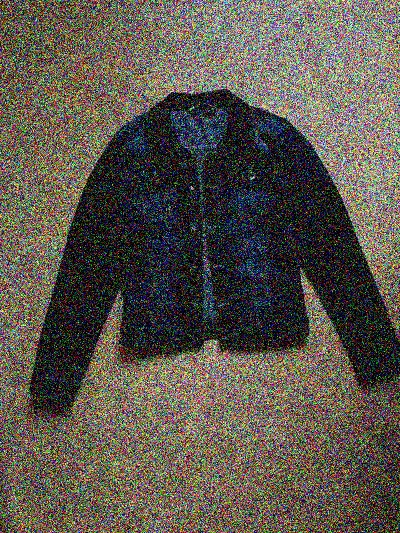Blazer: (4, 89, 397, 418)
